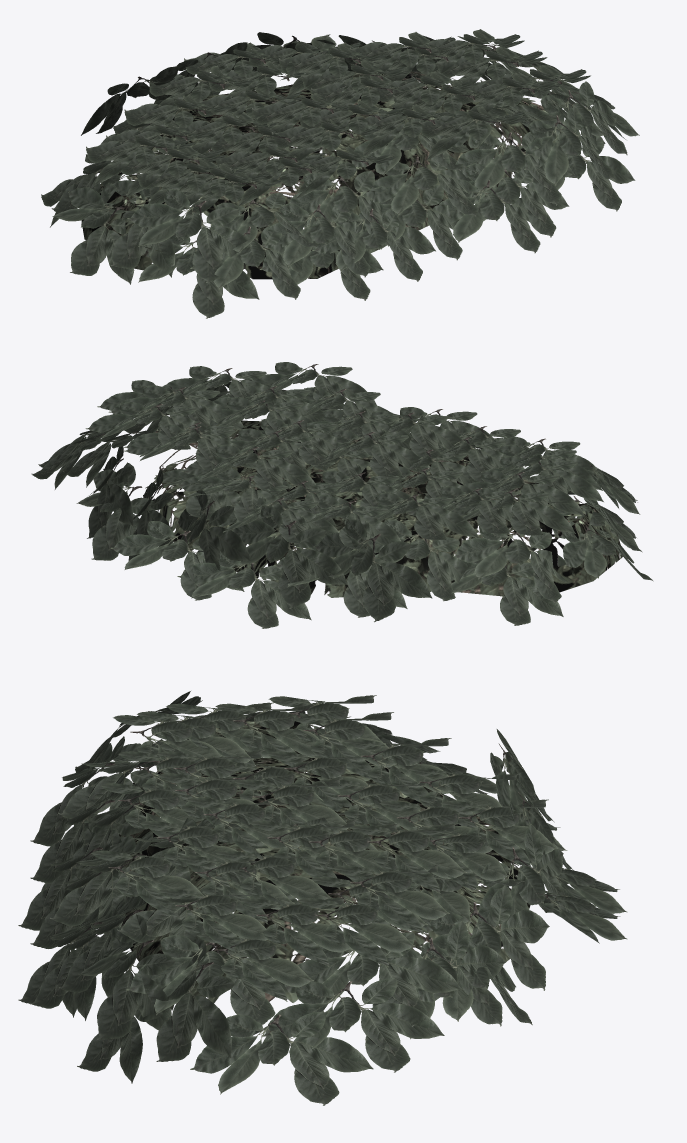
File: Shrub2.fbx
3 renders of one model, top to bottom at view 1: azimuth 30°, elevation 25°; view 2: azimuth 150°, elevation 25°; view 3: azimuth 270°, elevation 25°, orthographic. The views are drawn at different scales.
Visible parts, largest first — view 1: polySurface53, pSphere3; view 2: polySurface53, pSphere3; view 3: polySurface53, pSphere3.
Part boxes in pixels (x1,y1,x2,y2): polySurface53: (41,29,639,318); pSphere3: (81,71,558,279); polySurface53: (31,362,653,628); pSphere3: (145,420,622,597); polySurface53: (18,691,627,1105); pSphere3: (111,721,532,1010).
Size of the model in its own units: 5.29 by 1.09 by 3.88.
Materials: 2 (2 with a texture image).
